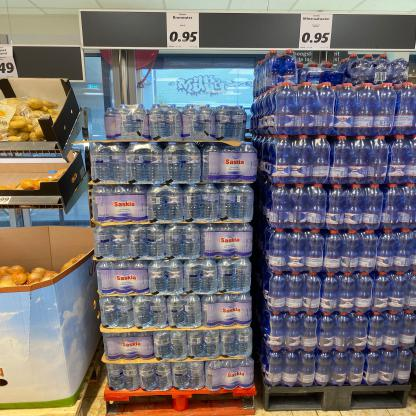prtg: (300, 15, 334, 50), (167, 14, 200, 49), (1, 47, 20, 80)
